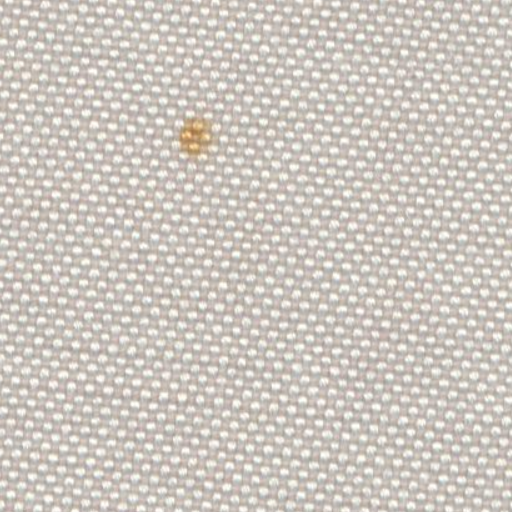WuZi: (152, 96, 228, 170)
